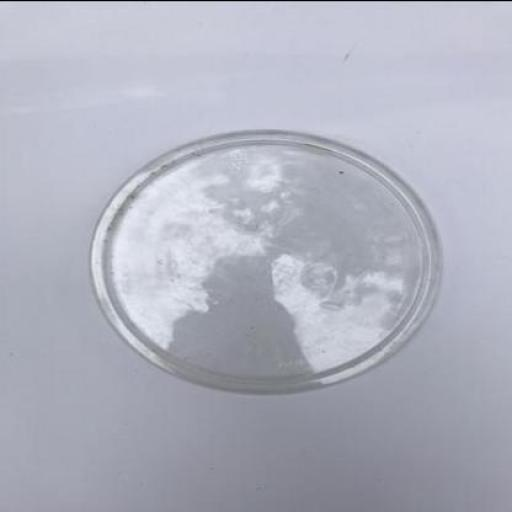plastic: (90, 128, 444, 391)
